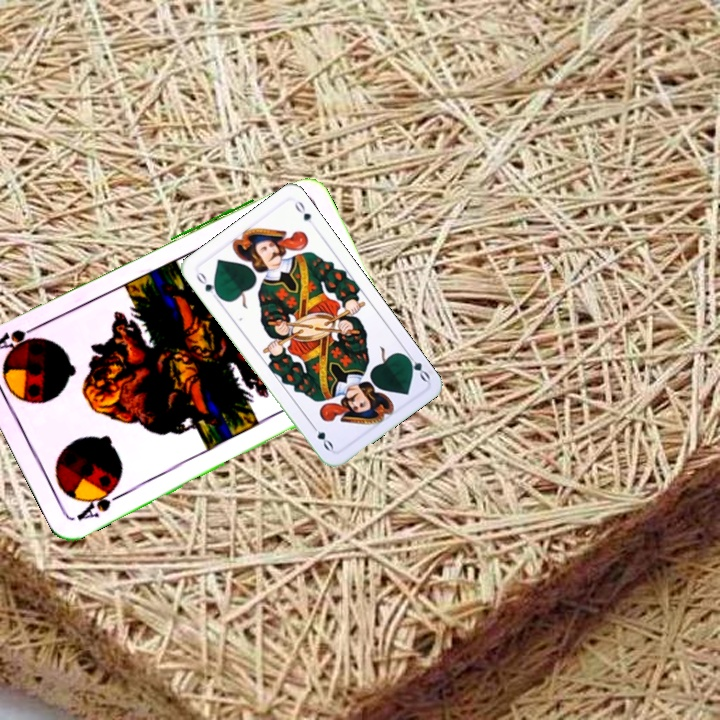GO: (400, 348, 433, 384), (192, 268, 223, 303)
SA: (72, 480, 127, 523)
